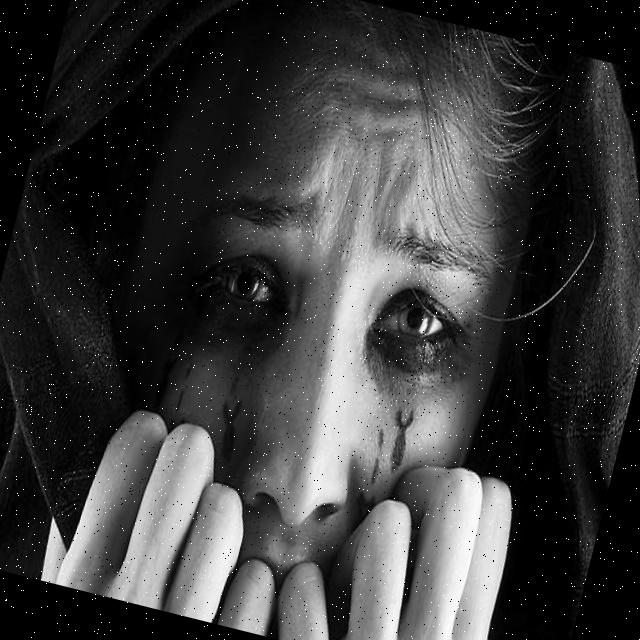Fear: (47, 0, 575, 640)
